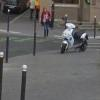Motorcycle: (57, 18, 92, 58)
